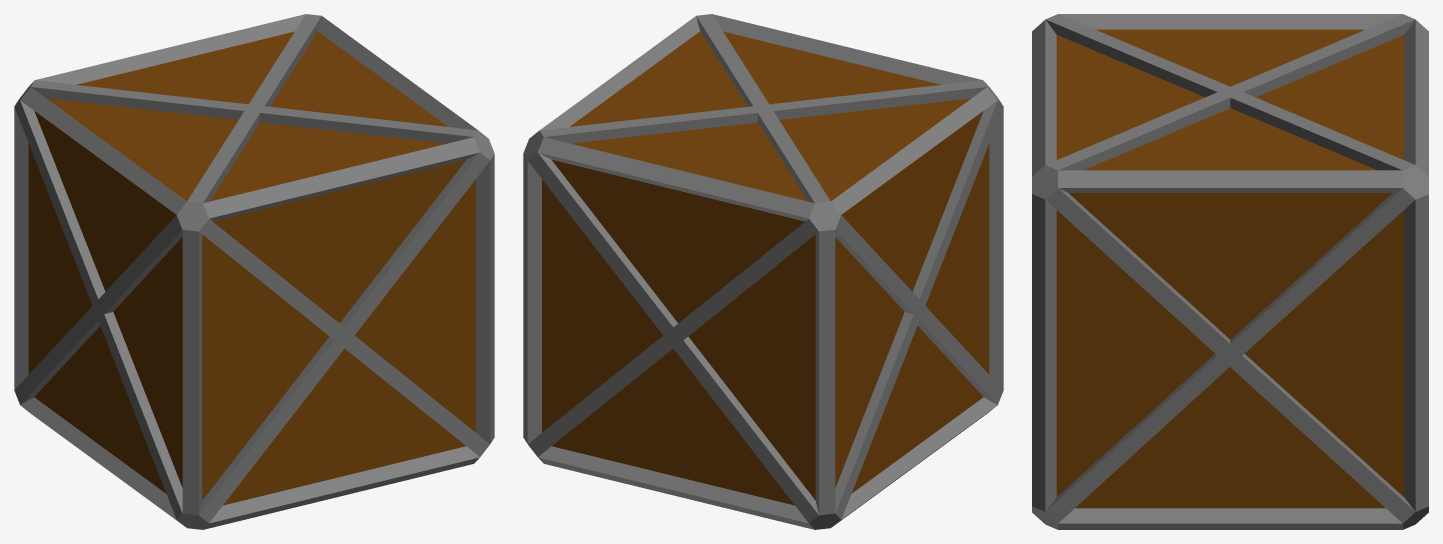
File: Prop_PowerUpBox.obj
3 renders of one model, left to right at view 1: azimuth 30°, elevation 25°; view 2: azimuth 150°, elevation 25°; view 3: azimuth 270°, elevation 25°, orthographic. The views are drawn at different scales.
Parts seen in each view (by area): view 1: PowerUpBoxTest; view 2: PowerUpBoxTest; view 3: PowerUpBoxTest.
Boxes of the visible parts, x1,y1,x2,y2 form: PowerUpBoxTest: (14, 14, 494, 529); PowerUpBoxTest: (523, 14, 1003, 529); PowerUpBoxTest: (1032, 14, 1428, 529).
Bounding box in the file's own units: 0.6917 × 0.6917 × 0.6917.
1 material, 1 textured.
